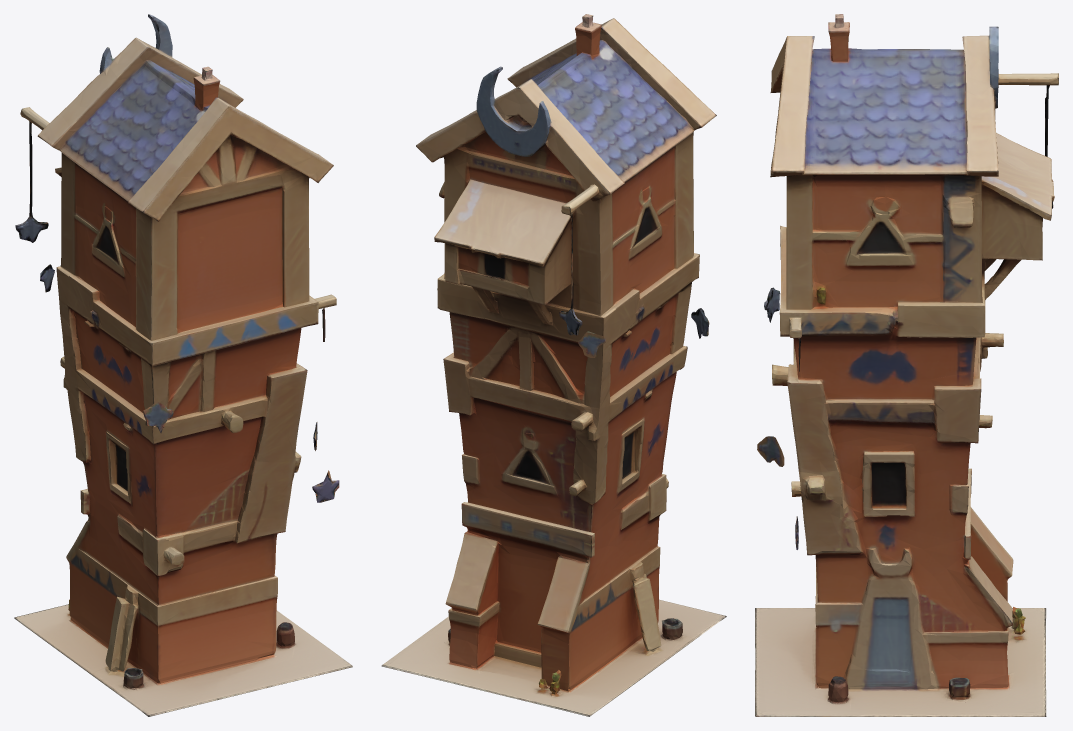
File: PartObjaverseTiny_Six.glb
3 views of the same model, side by side, from view 1: azimuth 30°, elevation 25°; view 2: azimuth 150°, elevation 25°; view 3: azimuth 270°, elevation 25° (orthographic). The views are drawn at different scales.
Parts seen in each view (by area): view 1: world; view 2: world; view 3: world.
Boxes of the visible parts, x1,y1,x2,y2 form: world: (14, 14, 352, 716); world: (381, 14, 726, 716); world: (755, 14, 1058, 716).
Size of the model in its own units: 0.3697 by 1 by 0.4272.
Materials: 1 (1 with a texture image).
